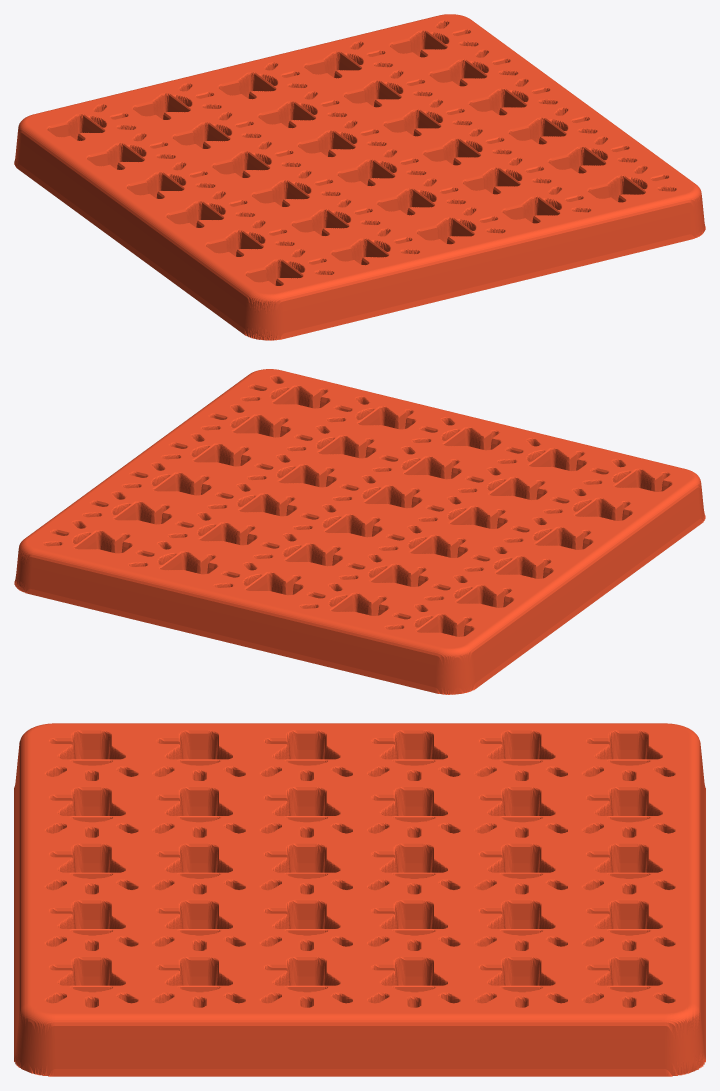
File: mold.glb
The picture shows the model from 3 angles, top to bottom: view 1: azimuth 30°, elevation 25°; view 2: azimuth 150°, elevation 25°; view 3: azimuth 270°, elevation 25°; orthographic projection. The views are drawn at different scales.
Parts seen in each view (by area): view 1: geometry_0; view 2: geometry_0; view 3: geometry_0.
Boxes of the visible parts, x1=… form: geometry_0: x1=14, y1=14, x2=705, y2=340; geometry_0: x1=14, y1=369, x2=705, y2=694; geometry_0: x1=14, y1=723, x2=705, y2=1076.
Bounding box in the file's own units: 0.1581 × 0.0136 × 0.1526.
